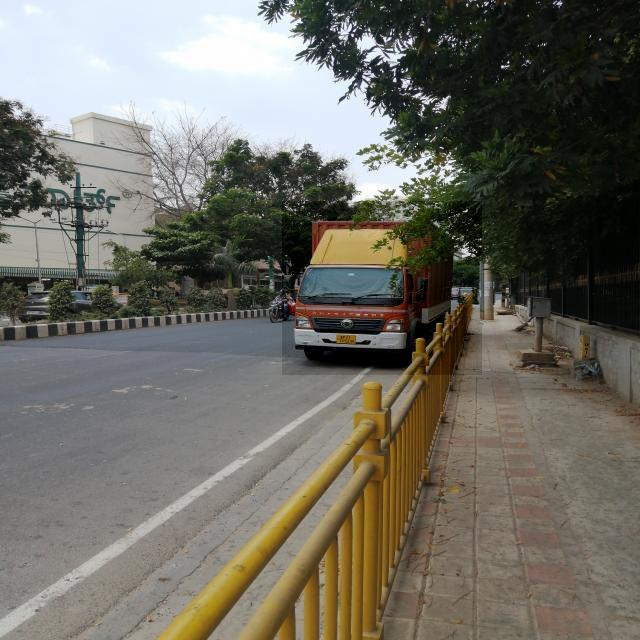Truck: (282, 202, 482, 376)
